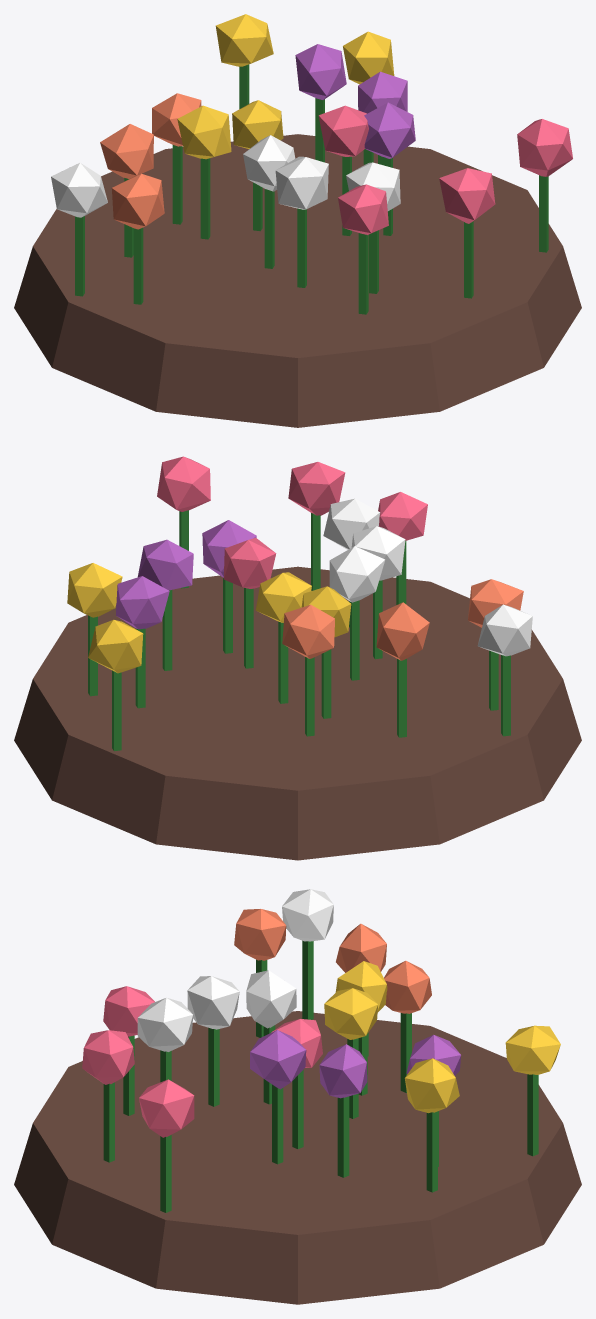
Rendered from flowers.glb.
The picture shows the model from 3 angles, top to bottom: view 1: azimuth 30°, elevation 25°; view 2: azimuth 150°, elevation 25°; view 3: azimuth 270°, elevation 25°; orthographic projection.
Visible parts, largest first — view 1: flowers; view 2: flowers; view 3: flowers.
Part boxes in pixels (x1,y1,x2,y2): flowers: (14, 14, 581, 427); flowers: (14, 456, 581, 860); flowers: (14, 889, 581, 1304).
Bounding box in the file's own units: 1.5 × 0.567 × 1.5.
